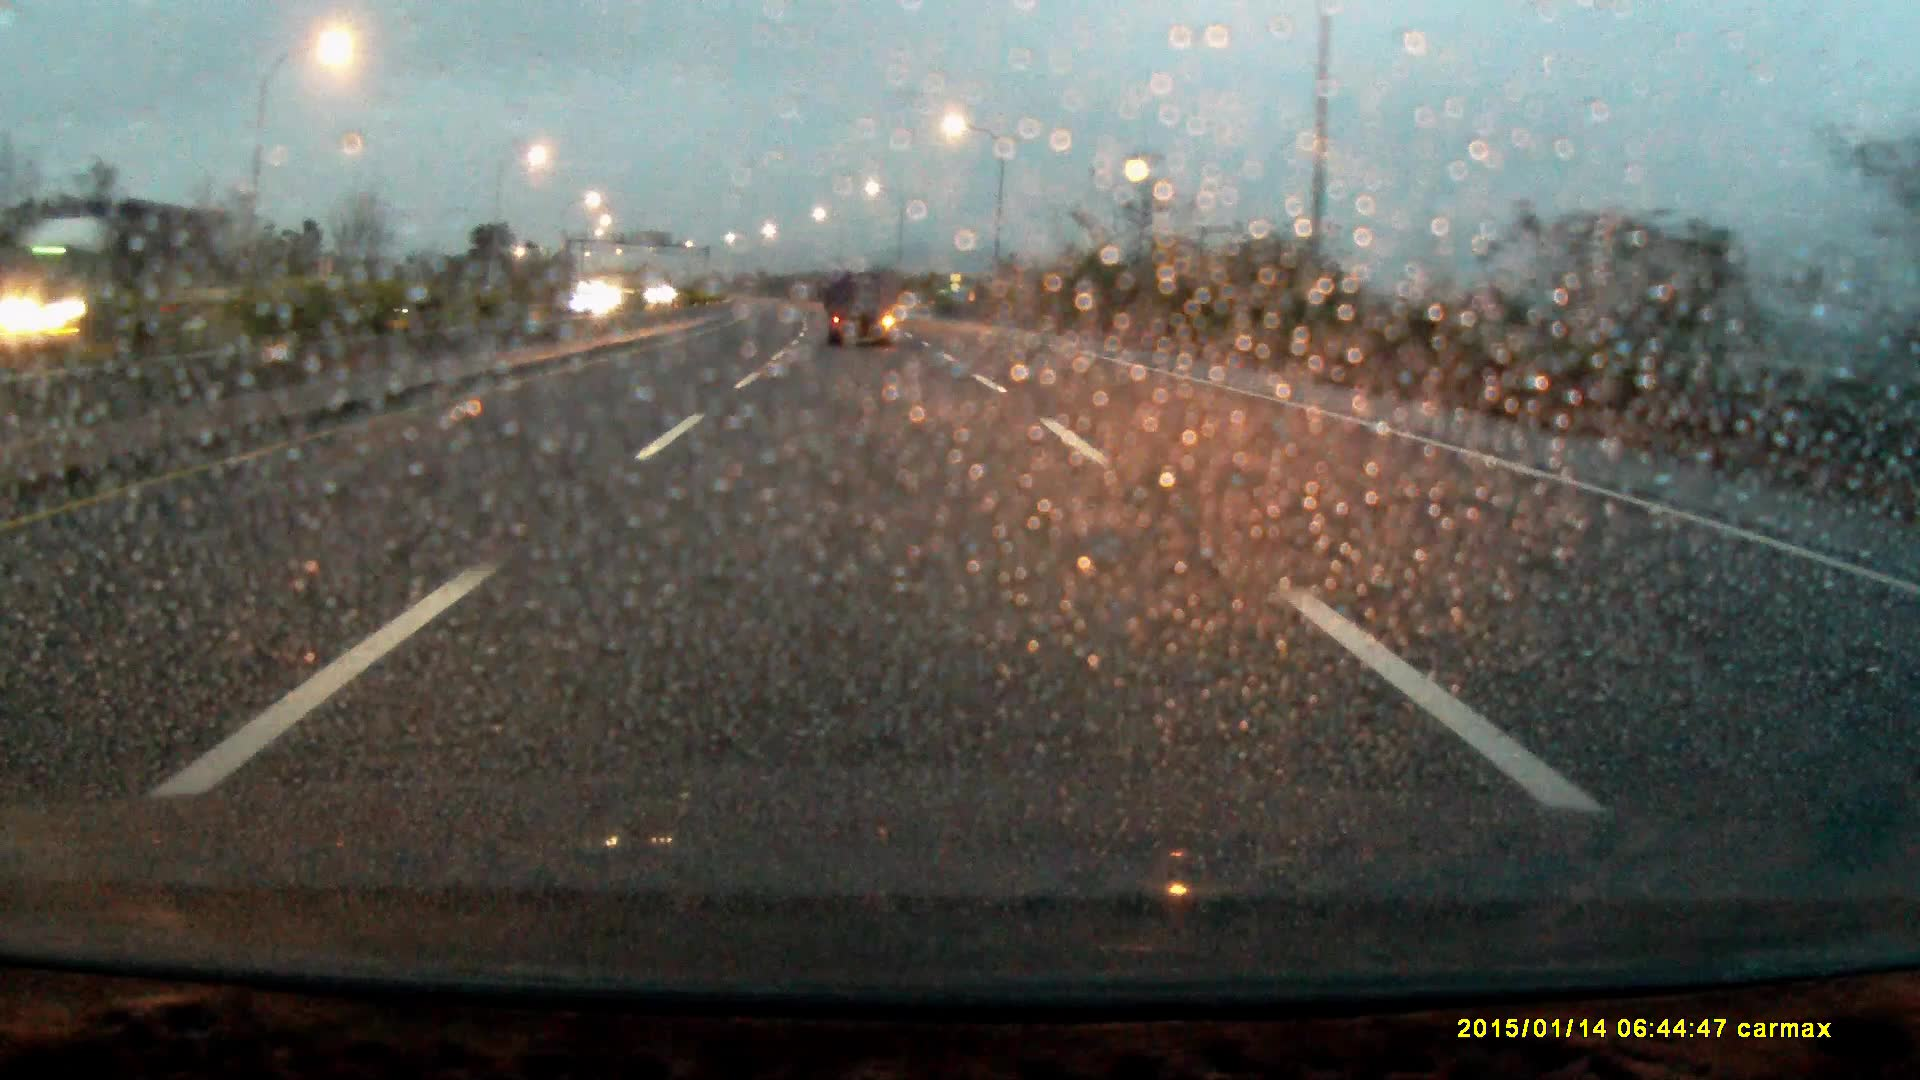vehicle: (26, 202, 247, 388), (825, 277, 898, 349), (584, 290, 630, 314)
